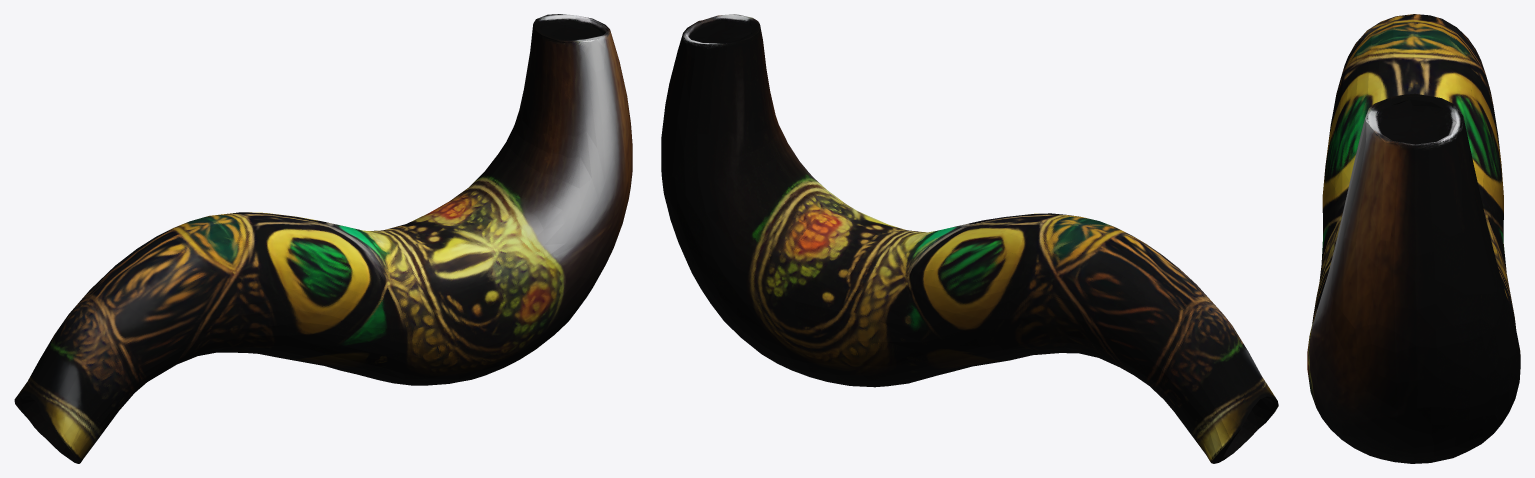
Rendered from horn-didgeridoo-art-deco.jpeg.glb.
3 views of the same model, side by side, from view 1: azimuth 30°, elevation 25°; view 2: azimuth 150°, elevation 25°; view 3: azimuth 270°, elevation 25° (orthographic). The views are drawn at different scales.
Parts seen in each view (by area): view 1: world; view 2: world; view 3: world.
Part boxes in pixels (x1,y1,x2,y2): world: (14, 14, 632, 463); world: (661, 14, 1278, 463); world: (1307, 14, 1520, 463).
Bounding box in the file's own units: 0.9985 × 0.5129 × 0.2458.
1 material, 1 textured.
